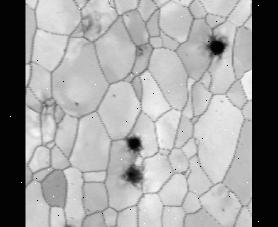good_void: (78, 0, 106, 38), (203, 30, 230, 63), (119, 161, 147, 190), (123, 134, 143, 159), (62, 215, 81, 227), (131, 43, 148, 56), (72, 101, 80, 107), (220, 207, 227, 212), (86, 207, 91, 214), (111, 93, 117, 98), (219, 98, 223, 103)
